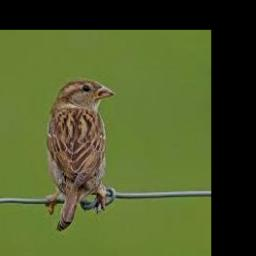Sparrow: (48, 77, 115, 230)
